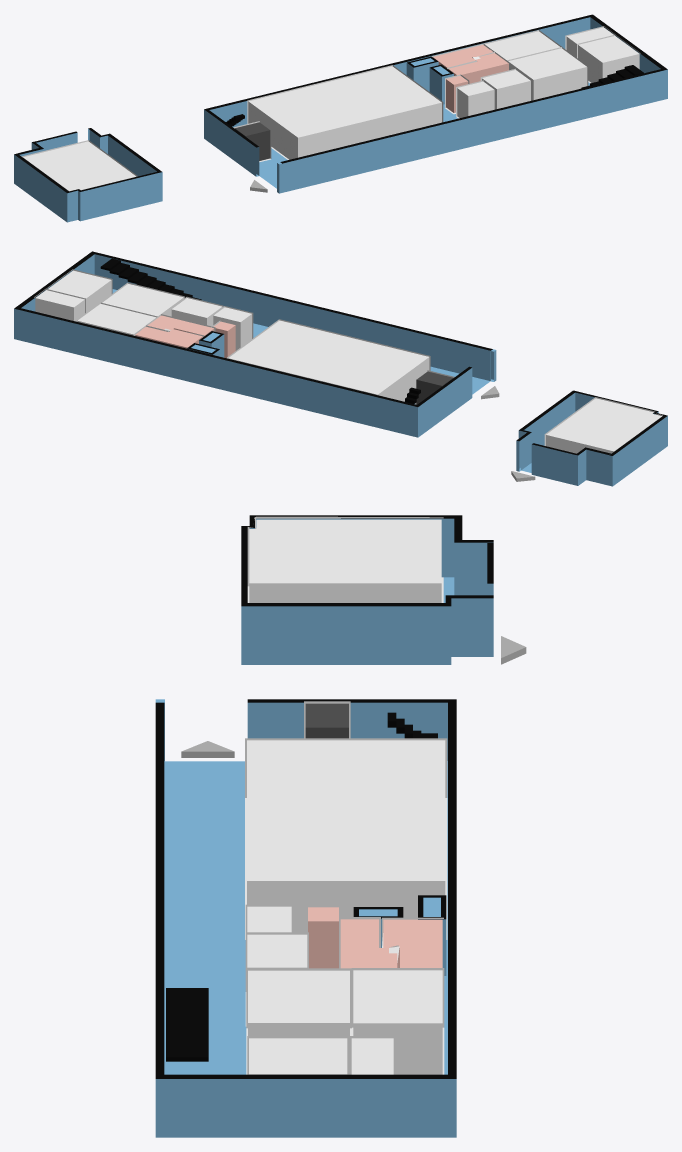
3 views of the same model, one above another, from view 1: azimuth 30°, elevation 25°; view 2: azimuth 150°, elevation 25°; view 3: azimuth 270°, elevation 25° (orthographic). The views are drawn at different scales.
Parts seen in each view (by area): view 1: object, room_2_1_1, room_2_1_6, room_2_1_8, room_2_1_5, room_2_1_4, room_2_1_3, room_2_1_7, トイレ_2_1_2, エレベーター_2_1_1, トイレ_2_1_1, room_2_1_9 (+3 smaller); view 2: object, room_2_1_1, room_2_1_6, room_2_1_8, room_2_1_3, room_2_1_5, room_2_1_9, 階段_2_1_1, room_2_1_4, トイレ_2_1_1, room_2_1_7, トイレ_2_1_2 (+3 smaller); view 3: object, room_2_1_1, room_2_1_6, room_2_1_3, room_2_1_8, room_2_1_5, 階段_2_1_1, トイレ_2_1_1, トイレ_2_1_2, room_2_1_4, トイレ_2_1_3, room_2_1_9 (+3 smaller).
Part boxes in pixels (box(x1,y1,x2,y2)): object: box(14, 14, 667, 222); room_2_1_1: box(248, 66, 441, 159); room_2_1_6: box(23, 141, 136, 191); room_2_1_8: box(508, 48, 587, 100); room_2_1_5: box(578, 36, 639, 82); room_2_1_4: box(482, 70, 530, 109); room_2_1_3: box(485, 31, 560, 60); room_2_1_7: box(457, 81, 494, 117); トイレ_2_1_2: box(448, 53, 508, 83); エレベーター_2_1_1: box(234, 122, 270, 160); トイレ_2_1_1: box(433, 45, 492, 68); room_2_1_9: box(566, 27, 613, 57); object: box(14, 251, 667, 486); room_2_1_1: box(228, 320, 429, 401); room_2_1_6: box(546, 398, 661, 453); room_2_1_8: box(102, 284, 183, 316); room_2_1_3: box(77, 303, 155, 335); room_2_1_5: box(48, 270, 111, 312); room_2_1_9: box(35, 290, 84, 321); 階段_2_1_1: box(100, 258, 201, 299); room_2_1_4: box(171, 298, 222, 326); トイレ_2_1_1: box(135, 326, 202, 348); room_2_1_7: box(213, 307, 251, 349); トイレ_2_1_2: box(147, 315, 214, 336); object: box(155, 515, 493, 1137); room_2_1_1: box(247, 740, 445, 932); room_2_1_6: box(249, 519, 441, 602); room_2_1_3: box(353, 970, 442, 1074); room_2_1_8: box(248, 970, 349, 1074); room_2_1_5: box(249, 1038, 347, 1074); 階段_2_1_1: box(166, 988, 208, 1061); トイレ_2_1_1: box(383, 919, 442, 967); トイレ_2_1_2: box(340, 919, 397, 968); room_2_1_4: box(247, 934, 307, 968); トイレ_2_1_3: box(308, 907, 338, 968); room_2_1_9: box(351, 1038, 393, 1074).
Bounding box in the file's own units: 3.5 × 0.1907 × 0.9721.
